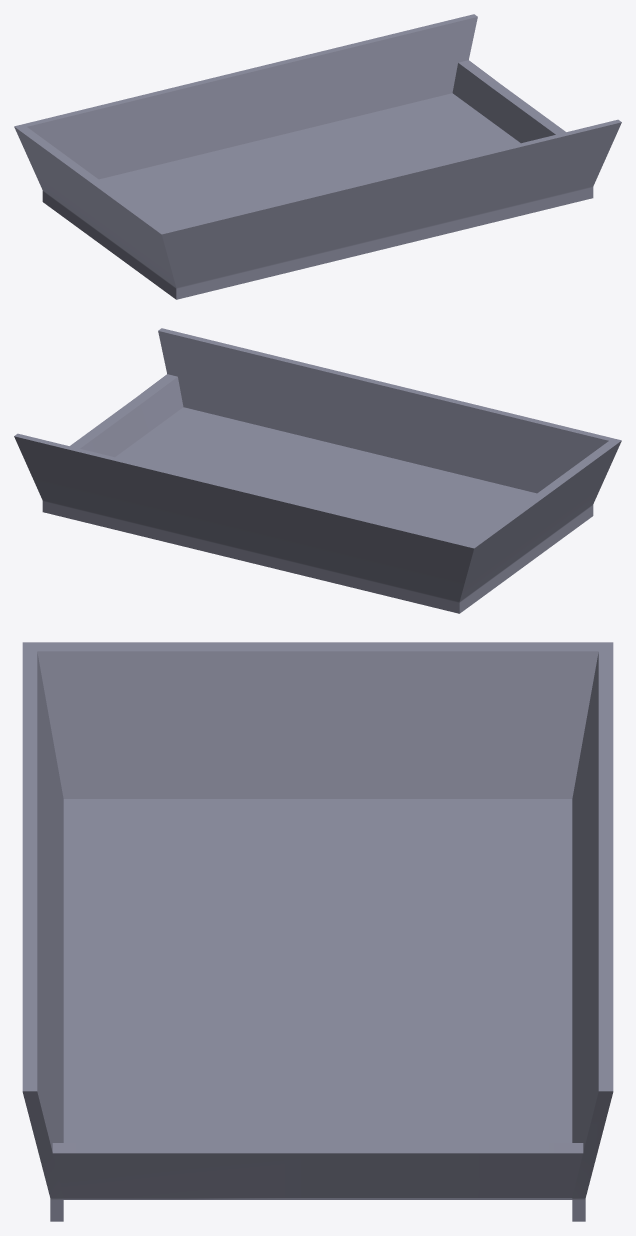
The model's file is PaperTray.fbx.
3 views of the same model, one above another, from view 1: azimuth 30°, elevation 25°; view 2: azimuth 150°, elevation 25°; view 3: azimuth 270°, elevation 25° (orthographic). The views are drawn at different scales.
Parts seen in each view (by area): view 1: pCube1; view 2: pCube1; view 3: pCube1.
Boxes of the visible parts, x1=… form: pCube1: x1=14, y1=14, x2=621, y2=299; pCube1: x1=14, y1=328, x2=621, y2=613; pCube1: x1=22, y1=642, x2=613, y2=1221.
Size of the model in its own units: 25.9 by 4.07 by 14.4.
